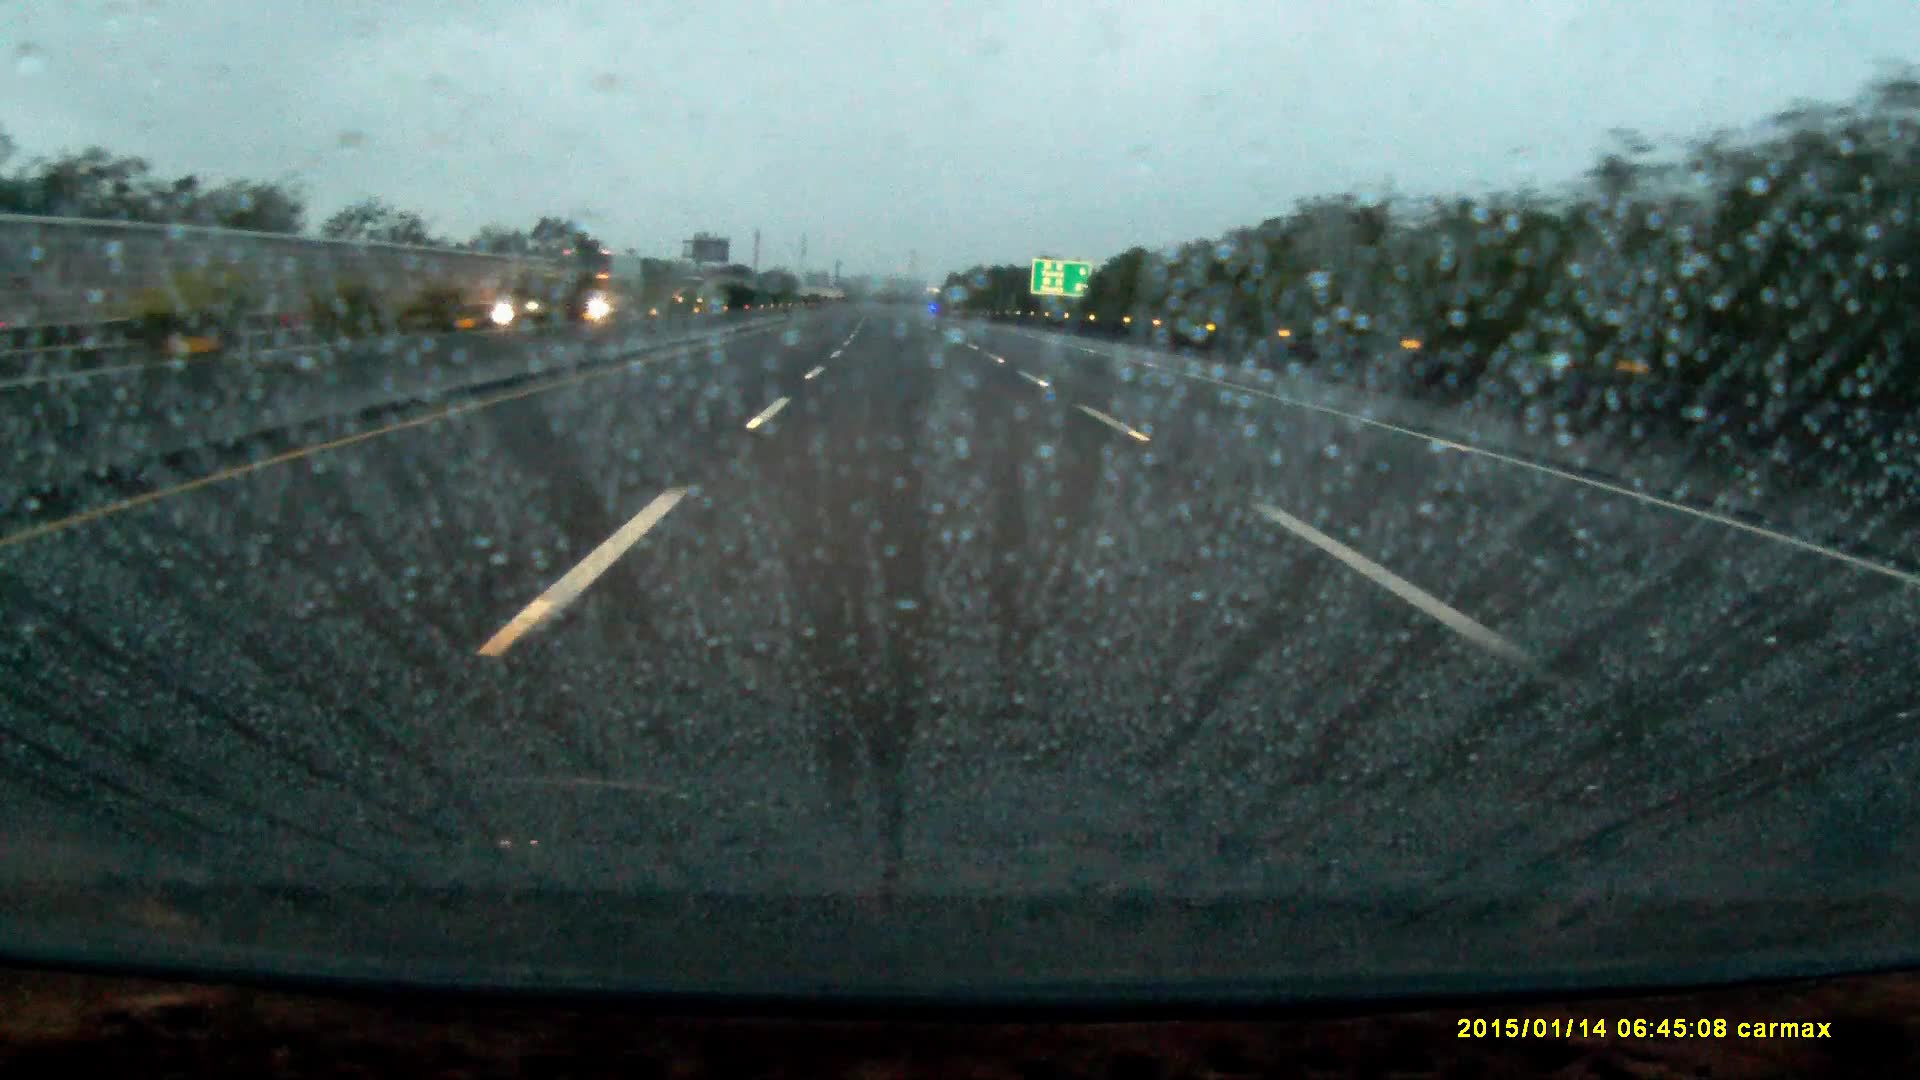vehicle: (564, 251, 647, 318), (493, 285, 560, 323)
